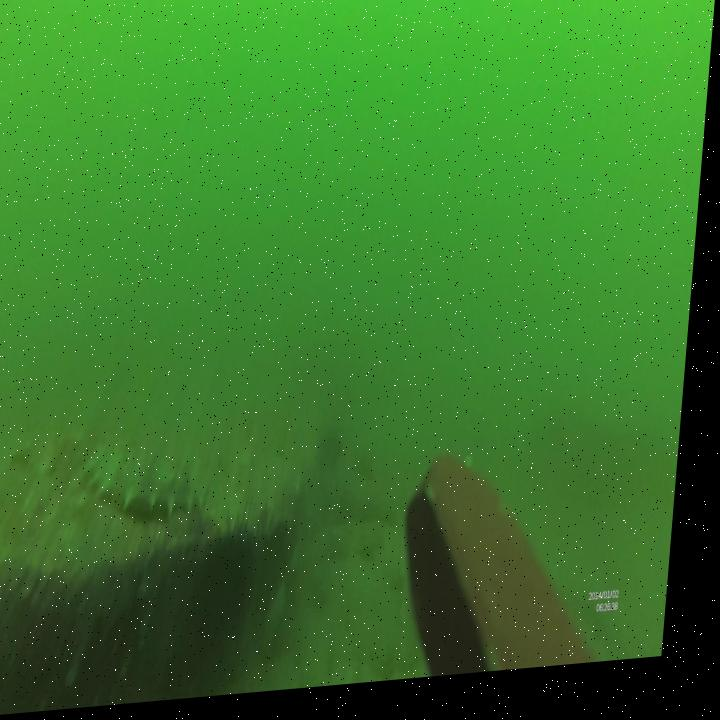holothurian: (82, 429, 221, 535)
